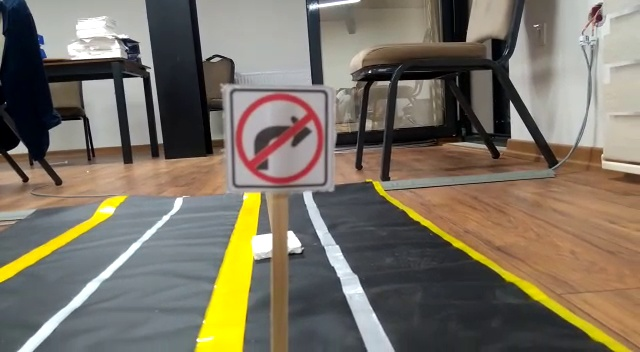saga_donulmez: (226, 85, 331, 186)
